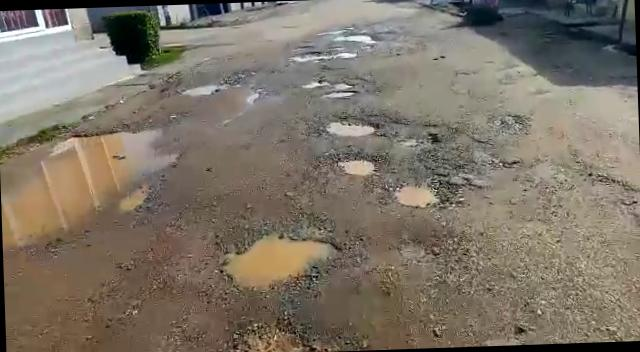pothole: (0, 133, 181, 253), (218, 228, 347, 294), (320, 115, 382, 141), (394, 182, 448, 206), (333, 154, 381, 178), (290, 50, 350, 64), (182, 82, 221, 96), (340, 32, 377, 42)
